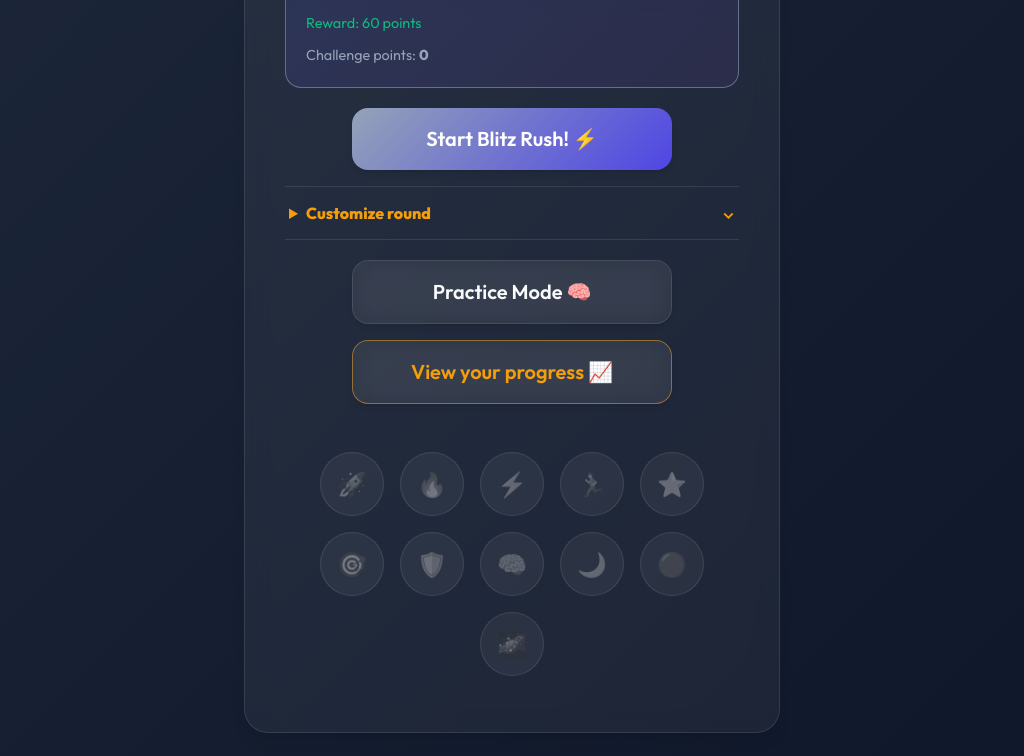
Test: App keyboard gameplay › opens an empty progress view from the home screen
(page scrolled)
What coordinates should you click on to do the following:
click the button "View your progress 📈"
I would click on:
 (512, 372)
Its box is [352,340,672,404].
(page scrolled)
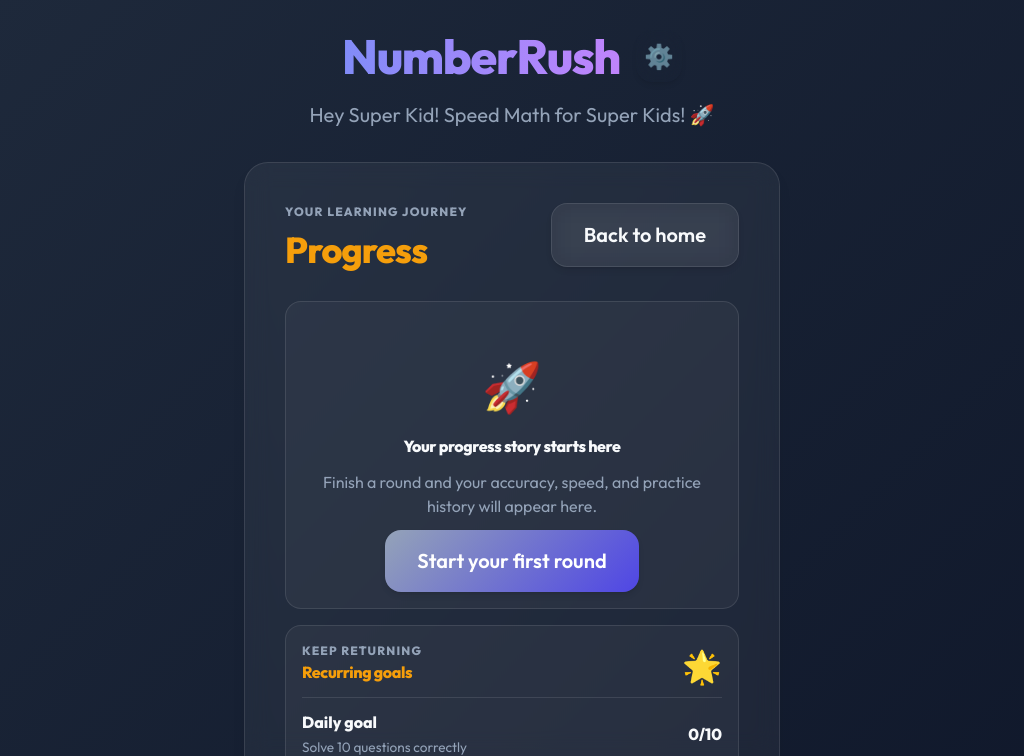
Expected: the heading "Progress" is shown, [285,227,427,272]
Expected: the heading "Your progress story starts here" is shown, [404,434,620,458]
Expected: the button "Back to home" is shown, [551,203,739,267]
